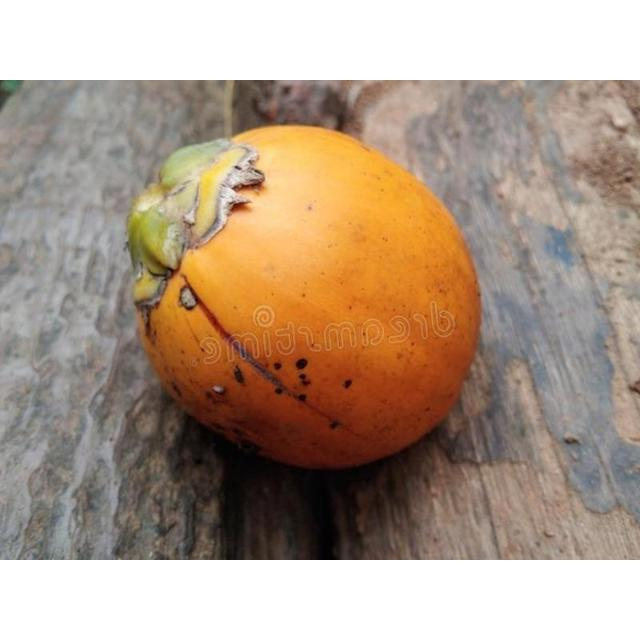good: (126, 125, 482, 472)
